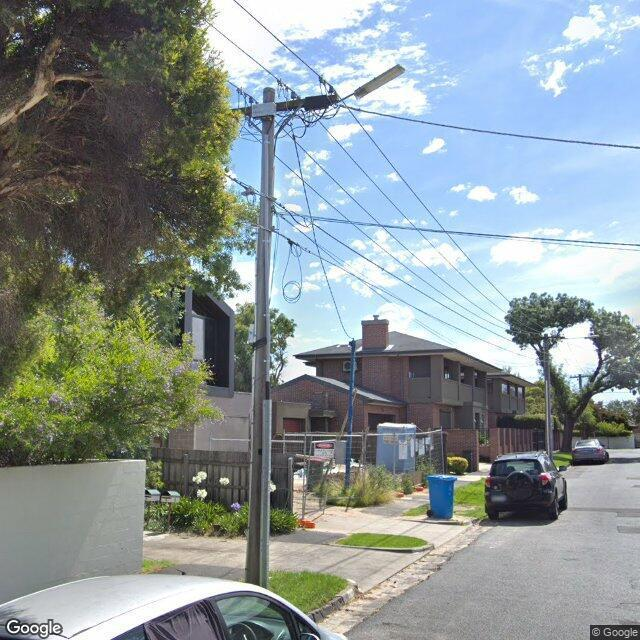crossarm: (230, 74, 343, 140), (570, 374, 591, 378)
steel-pole: (345, 339, 356, 488)
streetlight: (335, 63, 407, 104)
timber-pole: (244, 85, 276, 585), (544, 334, 551, 461), (578, 374, 582, 388)
